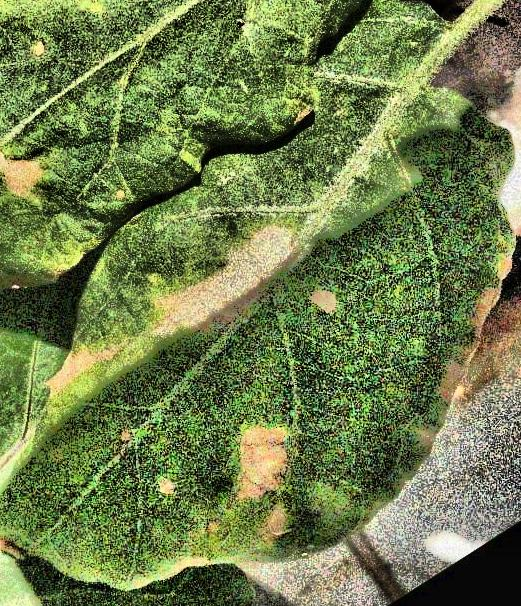Critical Stress: (1, 0, 521, 606)
